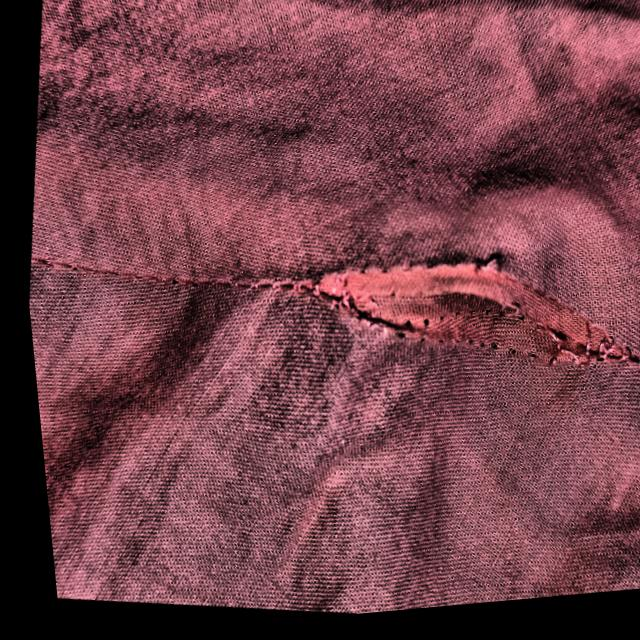seam: (205, 191, 640, 467)
